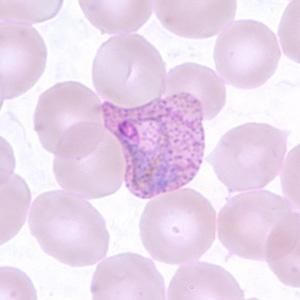Infected: (98, 89, 209, 197)
Uninfected: (139, 187, 217, 265), (53, 121, 126, 201), (29, 191, 106, 266), (215, 192, 293, 262), (36, 81, 105, 158), (92, 33, 162, 107), (213, 125, 289, 192), (213, 17, 281, 88), (161, 61, 225, 121), (0, 18, 48, 97), (88, 255, 163, 300)
